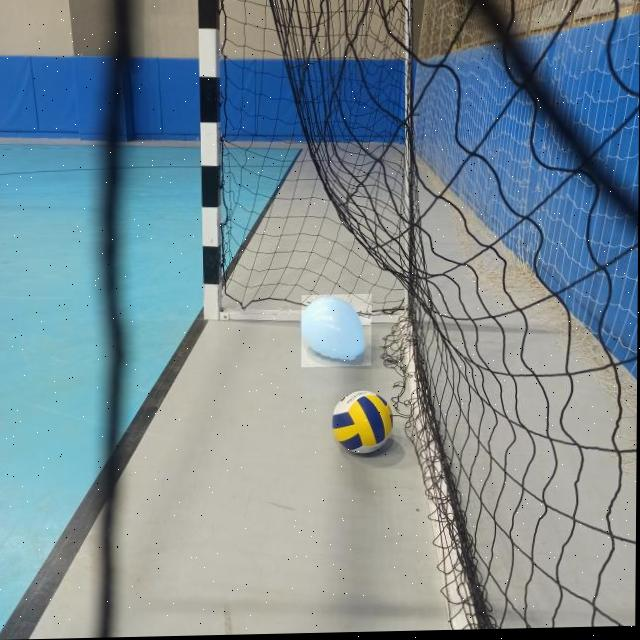balloon: (302, 295, 372, 369)
